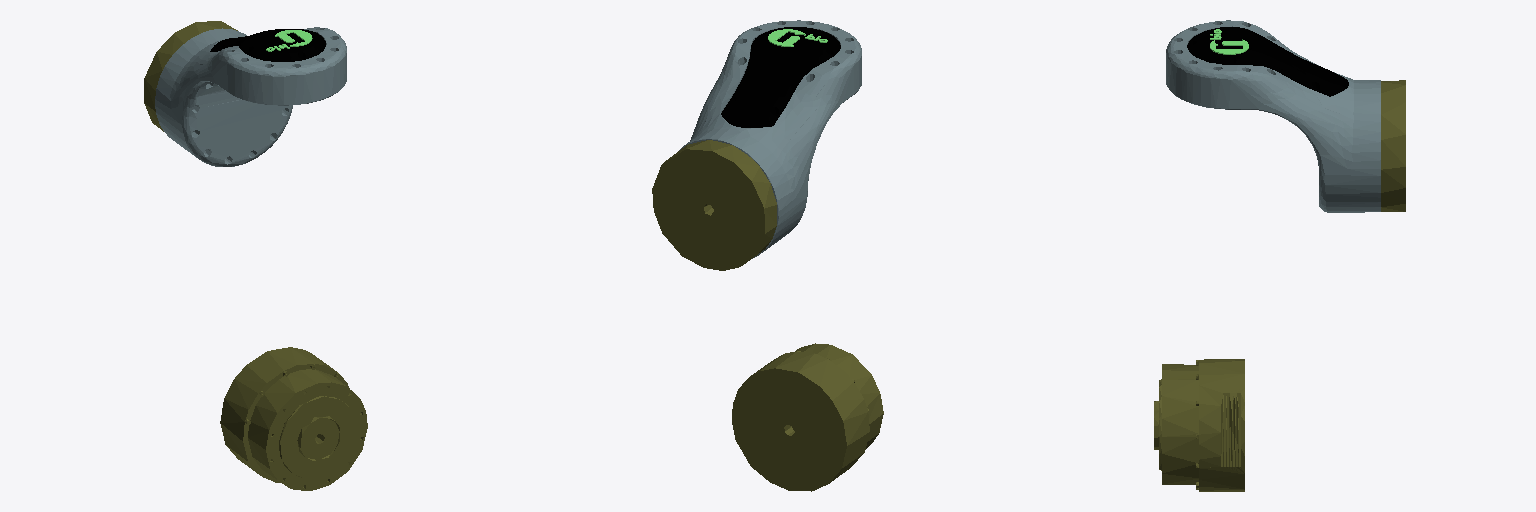
robot.urdf — hermesArm:
<?xml version="1.0"?>
<robot name="hermesArm">

 <!-- **************************** LINKS ***************************** -->
  <link name="base"> 
    <inertial>
      <origin xyz="0 0 0" /> 
      <mass value="1.0" />
      <inertia  ixx="1.0" ixy="0.0"  ixz="0.0"  iyy="1.0"  iyz="0.0"  izz="1.0" />
    </inertial>
    <visual>
      <origin xyz="0 0 0"/>
      <geometry>
        <mesh filename="package://hermes_arm_kdl/stl/BaseSchunk1.stl" />
      </geometry>
      <material name="link">
        <color rgba="0.4706 0.5451 0.5647 1"/>
      </material>
    </visual>
    <collision>
      <origin rpy="0 0 0" xyz="0 0 0"/>
      <geometry>
        <mesh filename="package://hermes_arm_kdl/stl/BaseSchunk1.stl" />
      </geometry>
    </collision>	
  </link>

  <link name="base_motor"> 
    <inertial>
      <origin xyz="0 0 0" /> 
      <mass value="1.0" />
      <inertia  ixx="1.0" ixy="0.0"  ixz="0.0"  iyy="1.0"  iyz="0.0"  izz="1.0" />
    </inertial>
    <visual>
      <origin xyz="0 0 0"/>
      <geometry>
        <mesh filename="package://hermes_arm_kdl/stl/BaseSchunk2.stl" />
      </geometry>
      <material name="motor">
        <color rgba="0.3922 0.3922 0.2118 1"/>
      </material>
    </visual>
    <collision>
      <origin rpy="0 0 0" xyz="0 0 0"/>
      <geometry>
        <mesh filename="package://hermes_arm_kdl/stl/BaseSchunk2.stl" />
      </geometry>
    </collision>	
  </link>

  <link name="link1_motor"> 
    <inertial>
      <origin xyz="0 0 0" /> 
      <mass value="1.0" />
      <inertia  ixx="1.0" ixy="0.0"  ixz="0.0"  iyy="1.0"  iyz="0.0"  izz="1.0" />
    </inertial>
    <visual>
      <origin xyz="0 0 0"/>
      <geometry>
        <mesh filename="package://hermes_arm_kdl/stl/SchunkLink1_1.stl" />
      </geometry>
      <material name="motor">
        <color rgba="0.3922 0.3922 0.2118 1"/>
      </material>
    </visual>
    <collision>
      <origin rpy="0 0 0" xyz="0 0 0"/>
      <geometry>
        <mesh filename="package://hermes_arm_kdl/stl/SchunkLink1_1.stl" />
      </geometry>
    </collision>	
  </link>

  <link name="link1_link"> 
    <inertial>
      <origin xyz="0 0 0" /> 
      <mass value="1.0" />
      <inertia  ixx="1.0" ixy="0.0"  ixz="0.0"  iyy="1.0"  iyz="0.0"  izz="1.0" />
    </inertial>
    <visual>
      <origin xyz="0 0 0"/>
      <geometry>
        <mesh filename="package://hermes_arm_kdl/stl/SchunkLink1_2.stl" />
      </geometry>
      <material name="link">
        <color rgba="0.4706 0.5451 0.5647 1"/>
      </material>
    </visual>
    <collision>
      <origin rpy="0 0 0" xyz="0 0 0"/>
      <geometry>
        <mesh filename="package://hermes_arm_kdl/stl/SchunkLink1_2.stl" />
      </geometry>
    </collision>	
  </link>
  

  <link name="link1_tapa"> 
    <inertial>
      <origin xyz="0 0 0" /> 
      <mass value="1.0" />
      <inertia  ixx="1.0" ixy="0.0"  ixz="0.0"  iyy="1.0"  iyz="0.0"  izz="1.0" />
    </inertial>
    <visual>
      <origin xyz="0 0 0"/>
      <geometry>
        <mesh filename="package://hermes_arm_kdl/stl/SchunkLink1_3.stl" />
      </geometry>
      <material name="tapa">
        <color rgba="0.0100 0.0100 0.0100 1"/>
      </material>
    </visual>
    <collision>
      <origin rpy="0 0 0" xyz="0 0 0"/>
      <geometry>
        <mesh filename="package://hermes_arm_kdl/stl/SchunkLink1_3.stl" />
      </geometry>
    </collision>	
  </link>

  <link name="link1_nbio"> 
    <inertial>
      <origin xyz="0 0 0" /> 
      <mass value="1.0" />
      <inertia  ixx="1.0" ixy="0.0"  ixz="0.0"  iyy="1.0"  iyz="0.0"  izz="1.0" />
    </inertial>
    <visual>
      <origin xyz="0 0 0"/>
      <geometry>
        <mesh filename="package://hermes_arm_kdl/stl/SchunkLink1_4.stl" />
      </geometry>
      <material name="nbio">
        <color rgba="0.5100 0.9100 0.5100 1"/>
      </material>
    </visual>
    <collision>
      <origin rpy="0 0 0" xyz="0 0 0"/>
      <geometry>
        <mesh filename="package://hermes_arm_kdl/stl/SchunkLink1_4.stl" />
      </geometry>
    </collision>	
  </link>


  <link name="link1_motor2"> 
    <inertial>
      <origin xyz="0 0 0" /> 
      <mass value="1.0" />
      <inertia  ixx="1.0" ixy="0.0"  ixz="0.0"  iyy="1.0"  iyz="0.0"  izz="1.0" />
    </inertial>
    <visual>
      <origin xyz="0 0 0"/>
      <geometry>
        <mesh filename="package://hermes_arm_kdl/stl/SchunkLink1_5.stl" />
      </geometry>
      <material name="motor">
        <color rgba="0.3922 0.3922 0.2118 1"/>
      </material>
    </visual>
    <collision>
      <origin rpy="0 0 0" xyz="0 0 0"/>
      <geometry>
        <mesh filename="package://hermes_arm_kdl/stl/SchunkLink1_5.stl" />
      </geometry>
    </collision>	
  </link>

 <!-- **************************** JOINTS ***************************** -->
  <joint name="base_fixed" type="fixed">
    <parent link="base"/>
    <child link="base_motor"/>
  </joint>


  <joint name="joint1" type="revolute">
    <parent link="base_motor"/>
    <child link="link1_motor"/>
    <origin xyz="0 0 0" rpy="0 0 0" />
    <limit effort="100" velocity="100" lower="-3.14" upper="3.14" />
    <axis xyz="0 0 1" />
  </joint>

  <joint name="joint1_motor_link" type="fixed">
    <parent link="link1_motor"/>
    <child link="link1_link"/>
  </joint>
  
  <joint name="joint1_link_tapa" type="fixed">
    <parent link="link1_link"/>
    <child link="link1_tapa"/>
  </joint>

  <joint name="joint1_tapa_nbio" type="fixed">
    <parent link="link1_tapa"/>
    <child link="link1_nbio"/>
  </joint>

  <joint name="joint1_nbio_motor2" type="fixed">
    <parent link="link1_nbio"/>
    <child link="link1_motor2"/>
  </joint>

</robot>

--- What the picture shows (computed from the rendered views, not written in the file) ---
Views: 3 orthographic renders of the robot side by side, from view 1: azimuth 30°, elevation 25°; view 2: azimuth 150°, elevation 25°; view 3: azimuth 270°, elevation 25°.
Robot: hermesArm — 7 links, 6 joints (1 revolute, 5 fixed); root link base; default pose: all joints at 0.
Visible links, largest first — view 1: link1_link, link1_motor2, link1_tapa, link1_motor; view 2: link1_motor2, link1_link, link1_motor, link1_tapa; view 3: link1_link, link1_motor2, link1_tapa, link1_motor.
Boxes of the visible links, x1=… form: link1_link: x1=155, y1=27, x2=346, y2=166; link1_motor2: x1=220, y1=347, x2=367, y2=490; link1_tapa: x1=210, y1=29, x2=325, y2=61; link1_motor: x1=144, y1=21, x2=237, y2=131; link1_motor2: x1=732, y1=343, x2=883, y2=491; link1_link: x1=679, y1=20, x2=861, y2=258; link1_motor: x1=652, y1=140, x2=776, y2=270; link1_tapa: x1=721, y1=27, x2=840, y2=127; link1_link: x1=1166, y1=20, x2=1380, y2=212; link1_motor2: x1=1154, y1=359, x2=1244, y2=491; link1_tapa: x1=1187, y1=27, x2=1348, y2=96; link1_motor: x1=1381, y1=80, x2=1405, y2=211.
Size in the robot's own frame: 0.1329 by 0.2509 by 0.4882 metres.
Meshes: 7 distinct files referenced, 5 mesh visuals loaded (5 binary STL); not drawn: 2 (reference not matched to a file when rendering).
